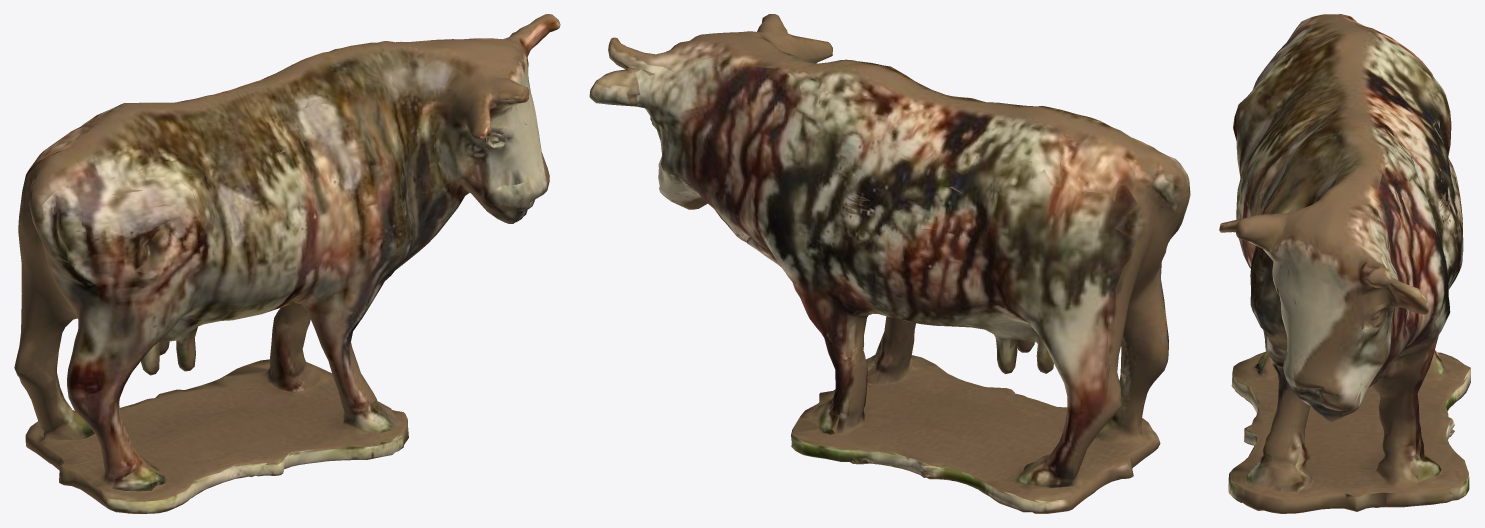
The model's file is cow-20177429.glb.
3 views of the same model, side by side, from view 1: azimuth 30°, elevation 25°; view 2: azimuth 150°, elevation 25°; view 3: azimuth 270°, elevation 25° (orthographic). The views are drawn at different scales.
Visible parts, largest first — view 1: Mesh; view 2: Mesh; view 3: Mesh.
Boxes of the visible parts, box(x1,y1,x2,y2) form: Mesh: box(14, 14, 560, 513); Mesh: box(589, 14, 1190, 513); Mesh: box(1219, 14, 1470, 513).
Size of the model in its own units: 0.2102 by 0.1301 by 0.08.
1 material, 1 textured.
